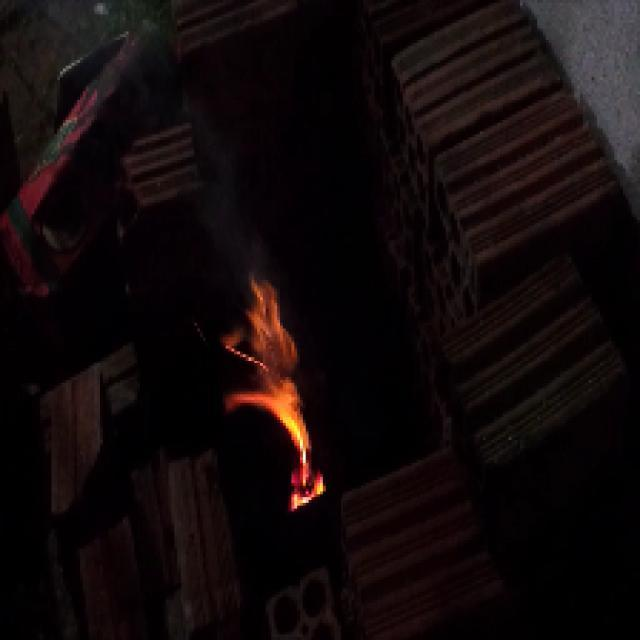Fire: (227, 284, 328, 510)
